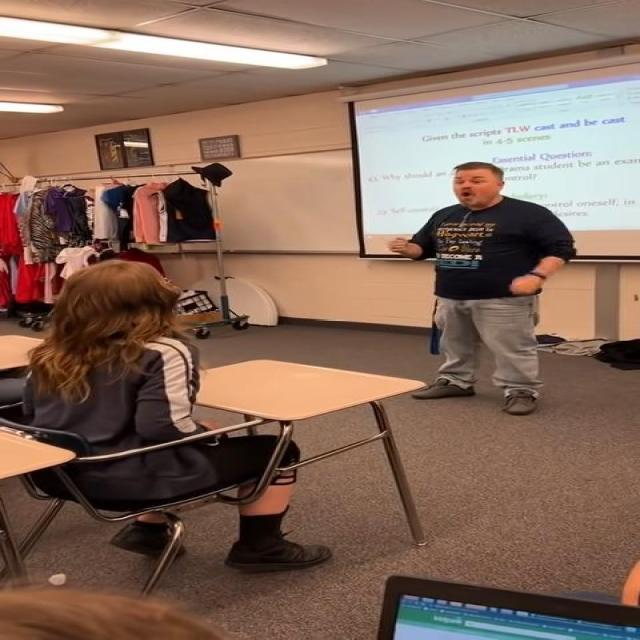NO-Mask: (454, 168, 502, 212)
